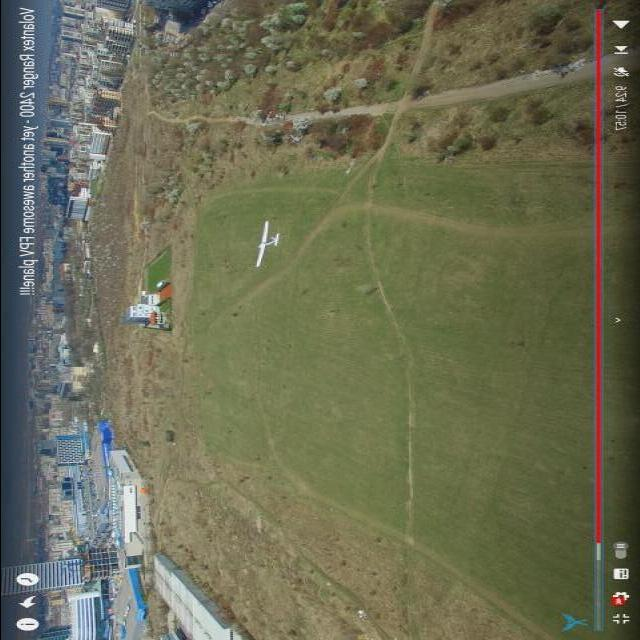UAV: (232, 212, 292, 270)
